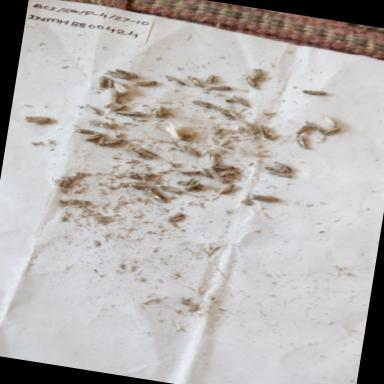pbw: (161, 122, 192, 144), (107, 79, 137, 101), (83, 116, 123, 132), (120, 177, 158, 193), (128, 144, 161, 162), (18, 111, 54, 127), (210, 104, 240, 123), (112, 107, 149, 122), (314, 122, 344, 140), (156, 182, 188, 198), (100, 133, 130, 150), (140, 186, 168, 204), (292, 133, 316, 154), (177, 142, 204, 160), (160, 73, 190, 88), (188, 98, 220, 112), (103, 67, 134, 81), (180, 176, 202, 195), (82, 128, 108, 144), (256, 122, 276, 142), (208, 160, 236, 174), (230, 94, 256, 109), (164, 208, 186, 225), (248, 192, 279, 204), (184, 74, 207, 90), (302, 84, 328, 98), (78, 102, 104, 116), (271, 159, 298, 171), (109, 88, 127, 106), (302, 120, 325, 134), (219, 166, 242, 180), (197, 166, 217, 182), (240, 74, 260, 90), (205, 152, 225, 168), (320, 114, 341, 129), (176, 166, 202, 178), (206, 81, 232, 93), (206, 168, 228, 182), (92, 134, 111, 150), (133, 76, 158, 88), (264, 168, 294, 178), (106, 100, 127, 114), (217, 182, 237, 196), (246, 66, 264, 81), (293, 122, 312, 136), (74, 125, 98, 136), (94, 75, 110, 91), (153, 106, 171, 120), (203, 72, 219, 86)
